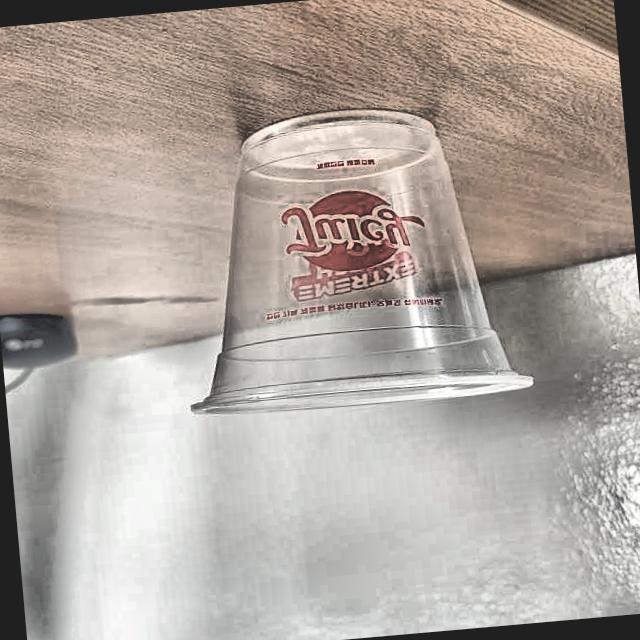plastic cup: (163, 92, 534, 422)
